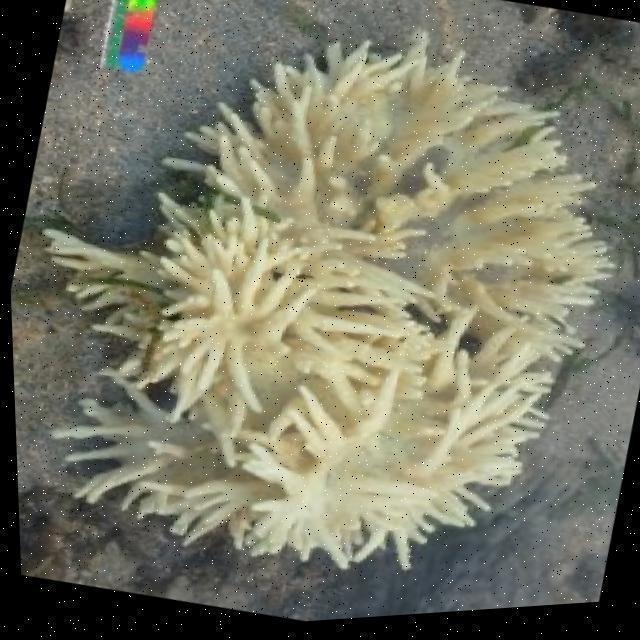Bleached Coral: (45, 39, 613, 569)
